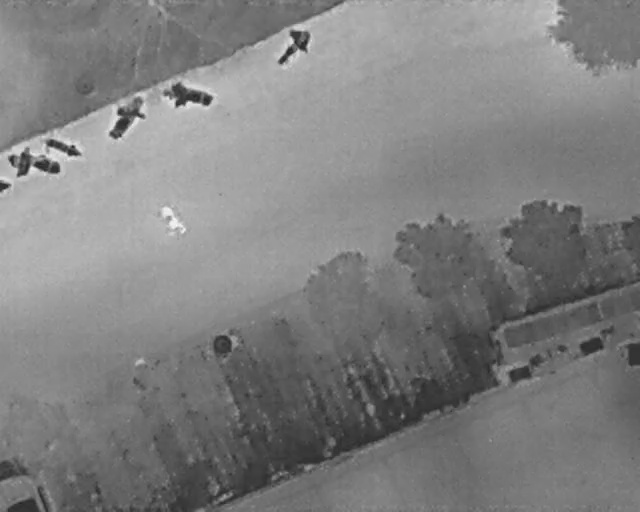Bicycle: (98, 85, 156, 150), (265, 19, 320, 73), (2, 140, 65, 187), (160, 75, 217, 113), (35, 130, 85, 162), (0, 177, 13, 196)
Car: (0, 453, 55, 510)
Person: (168, 213, 188, 236), (160, 203, 174, 219)
